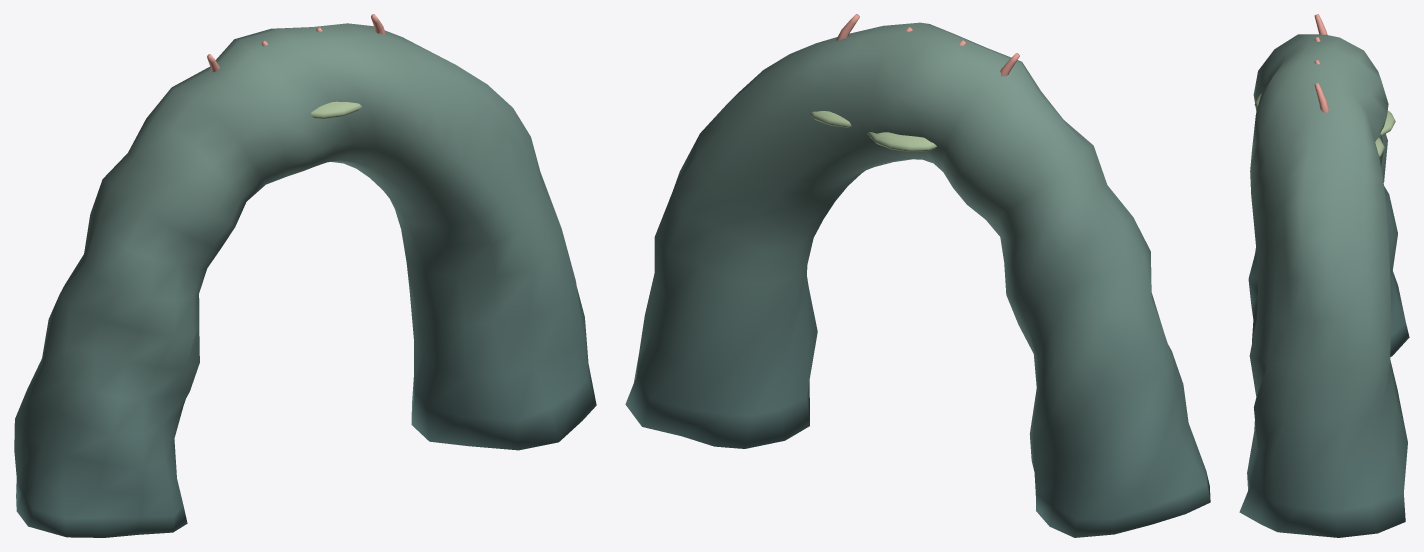
Rendered from reef_arch.glb.
The picture shows the model from 3 angles, left to right: view 1: azimuth 30°, elevation 25°; view 2: azimuth 150°, elevation 25°; view 3: azimuth 270°, elevation 25°; orthographic projection. The views are drawn at different scales.
Parts seen in each view (by area): view 1: reef_arch_painted_mesh; view 2: reef_arch_painted_mesh; view 3: reef_arch_painted_mesh.
Boxes of the visible parts, left/top/right/bottom form: reef_arch_painted_mesh: left=14, top=14, right=596, bottom=537; reef_arch_painted_mesh: left=625, top=14, right=1210, bottom=537; reef_arch_painted_mesh: left=1239, top=14, right=1409, bottom=537.
Bounding box in the file's own units: 4.49 × 3.3 × 1.34.
